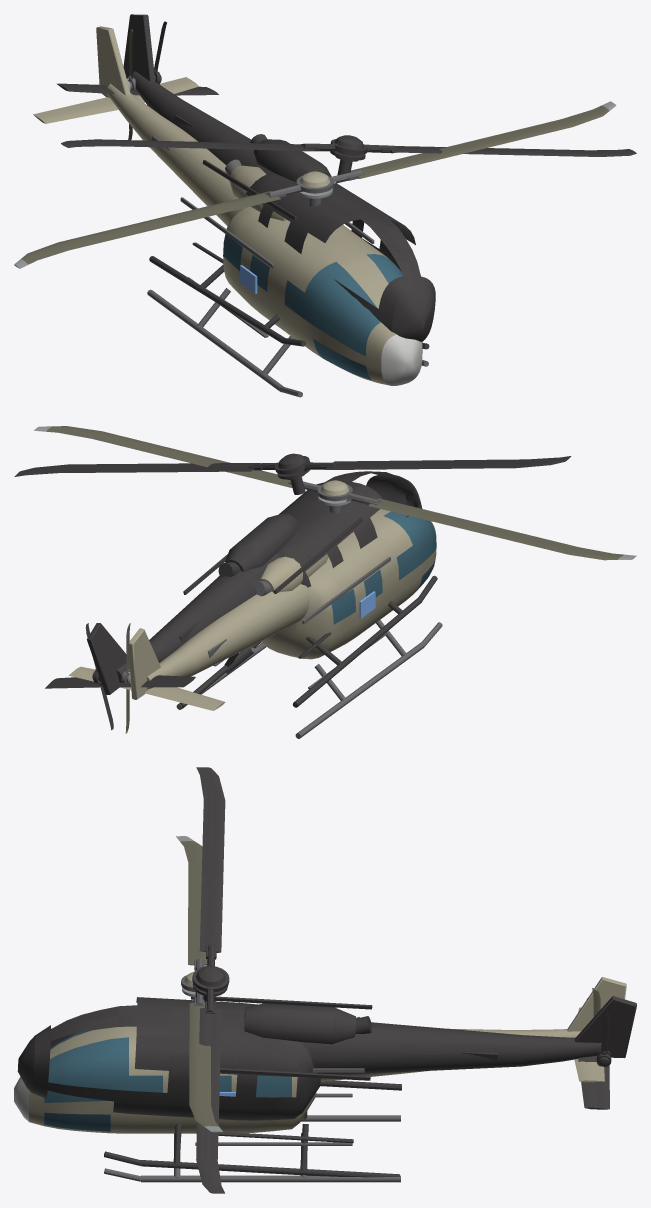
Rendered from helicopter__uh_1j.glb.
3 renders of one model, top to bottom at view 1: azimuth 30°, elevation 25°; view 2: azimuth 150°, elevation 25°; view 3: azimuth 270°, elevation 25°, orthographic. The views are drawn at different scales.
Parts seen in each view (by area): view 1: Fuselage_Mesh, Wreck, Rotor_Main_Mesh, Landing_Gear_Mesh, Engines_Mesh; view 2: Wreck, Fuselage_Mesh, Rotor_Main_Mesh, Landing_Gear_Mesh, Engines_Mesh, Rotor_Tail_Mesh; view 3: Wreck, Fuselage_Mesh, Rotor_Main_Mesh, Landing_Gear_Mesh.
Boxes of the visible parts, left/top/right/bottom form: Fuselage_Mesh: left=33, top=26, right=422, bottom=385; Wreck: left=57, top=14, right=636, bottom=349; Rotor_Main_Mesh: left=14, top=101, right=616, bottom=268; Landing_Gear_Mesh: left=147, top=288, right=428, bottom=397; Engines_Mesh: left=225, top=159, right=286, bottom=221; Wreck: left=14, top=453, right=571, bottom=730; Fuselage_Mesh: left=69, top=509, right=436, bottom=710; Rotor_Main_Mesh: left=34, top=426, right=636, bottom=560; Landing_Gear_Mesh: left=176, top=620, right=442, bottom=738; Engines_Mesh: left=253, top=554, right=328, bottom=596; Rotor_Tail_Mesh: left=121, top=623, right=130, bottom=733; Wreck: left=17, top=767, right=636, bottom=1193; Fuselage_Mesh: left=14, top=977, right=626, bottom=1145; Rotor_Main_Mesh: left=176, top=836, right=222, bottom=1132; Landing_Gear_Mesh: left=104, top=1111, right=400, bottom=1182.
Size of what is drawn, in the model's own units: 15.16 by 6.14 by 13.09.
